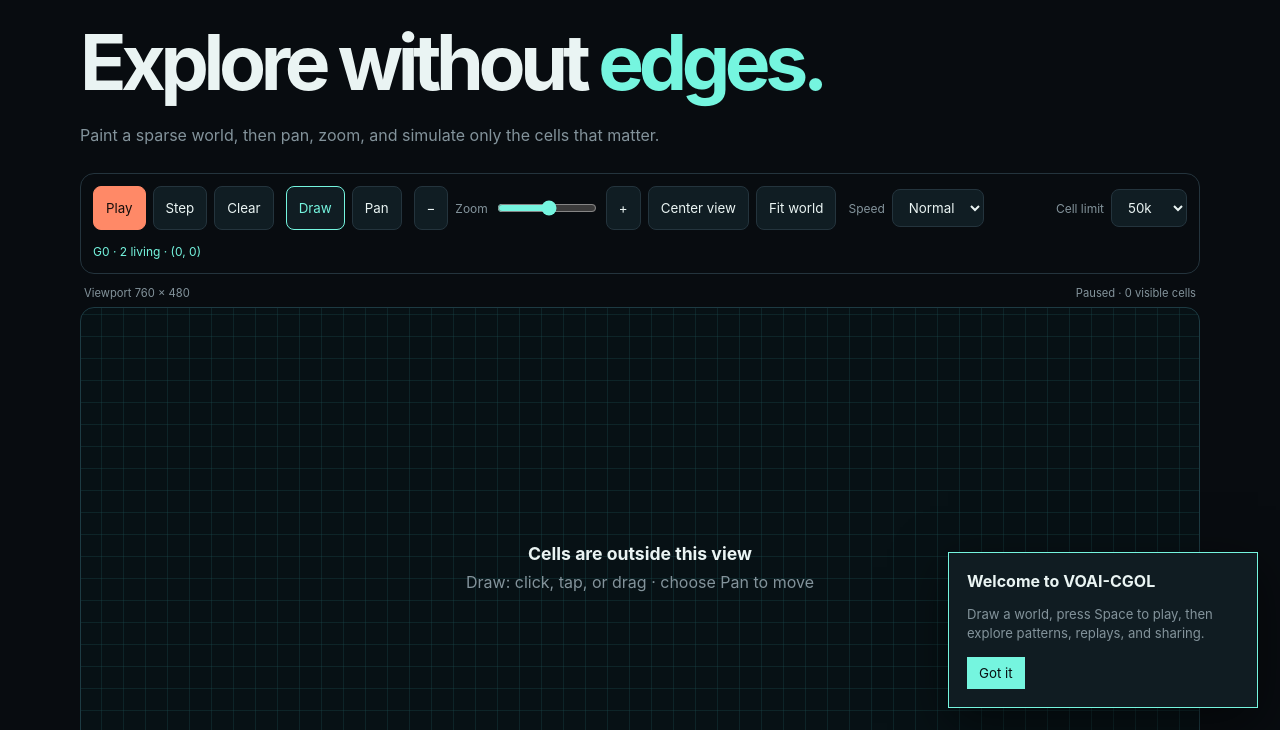
loads catalog patterns and frames distant cells
Click the button "Fit world" at (796, 208), box 756,186 -> 836,230
(page scrolled)
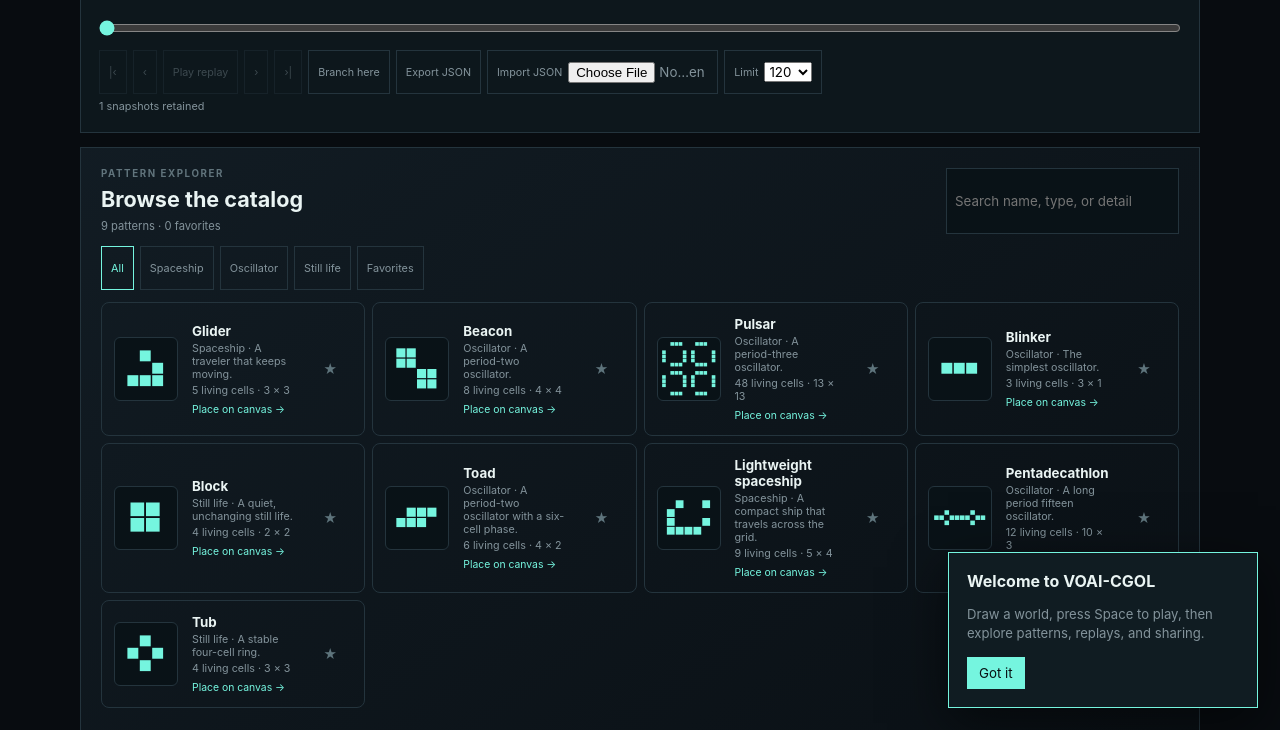
Click the text "Glider" at (212, 331), box 192,323 -> 231,339
(page scrolled)
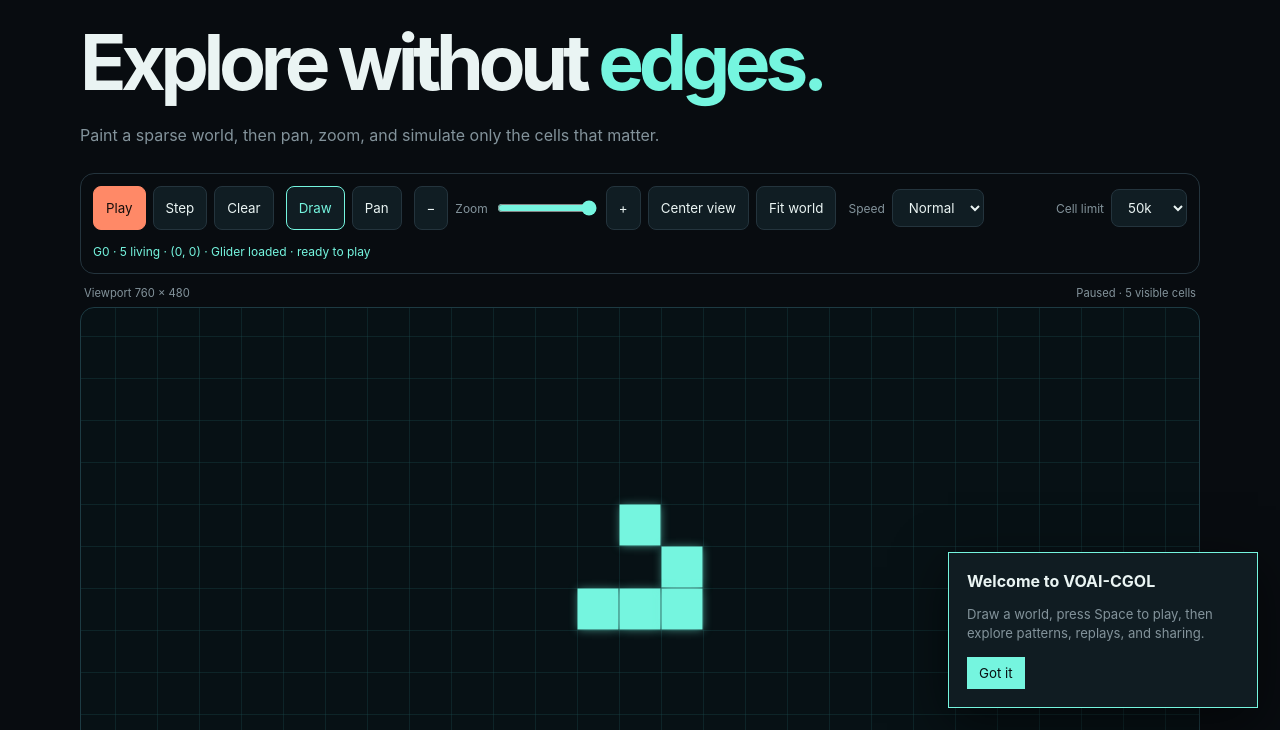
Expected: the number of icons with class "alive" is 5, 620,505 -> 660,546; 662,547 -> 702,588; 578,589 -> 618,630; 620,589 -> 660,630; 662,589 -> 702,630
Expected: the text with class "worldReadout" shows "Glider loaded", 204,244 -> 370,259
